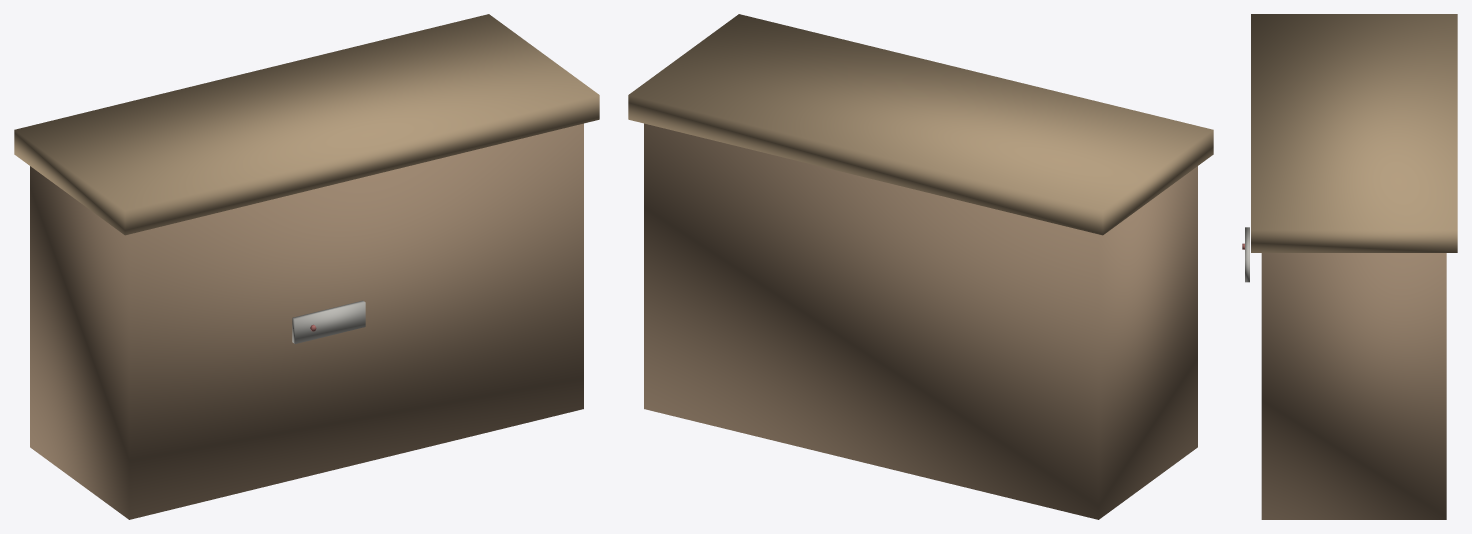
Rendered from bagging_stand__tall.glb.
The picture shows the model from 3 angles, left to right: view 1: azimuth 30°, elevation 25°; view 2: azimuth 150°, elevation 25°; view 3: azimuth 270°, elevation 25°; orthographic projection. The views are drawn at different scales.
Visible parts, largest first — view 1: world; view 2: world; view 3: world.
Boxes of the visible parts, left/top/right/bottom form: world: left=14, top=14, right=599, bottom=519; world: left=628, top=14, right=1213, bottom=519; world: left=1242, top=14, right=1457, bottom=519.
Size of the model in its own units: 1.88 by 1.19 by 0.791.
